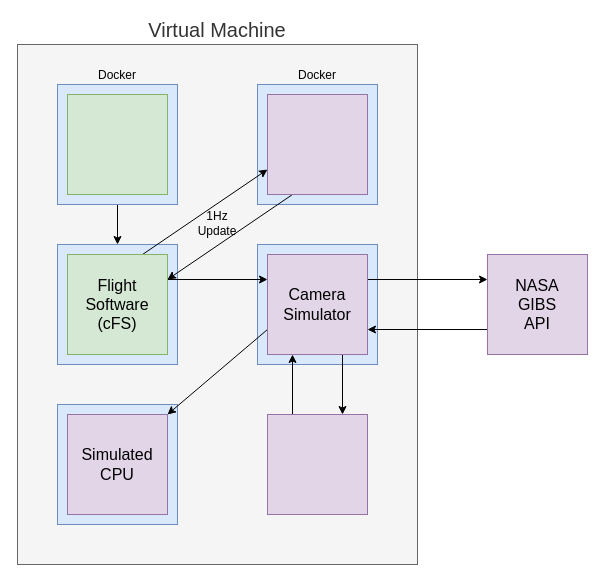
The diagram is 605 pixels wide and 582 high, and some of its shapes have lost their labels. Here are the shapes that lost their labels. From the top down, the box of each, then its label:
(66, 94, 168, 194): Ground Software (Cosmos)
(266, 94, 368, 194): GPS SImulator
(266, 414, 368, 514): Video 2 Events
